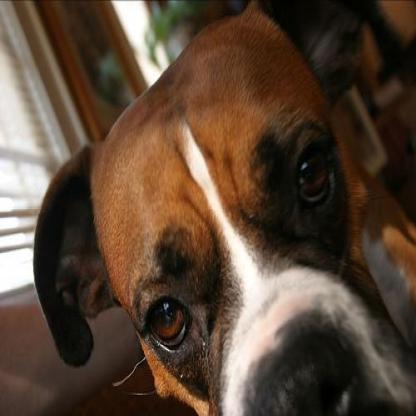boxer: (33, 0, 414, 414)
